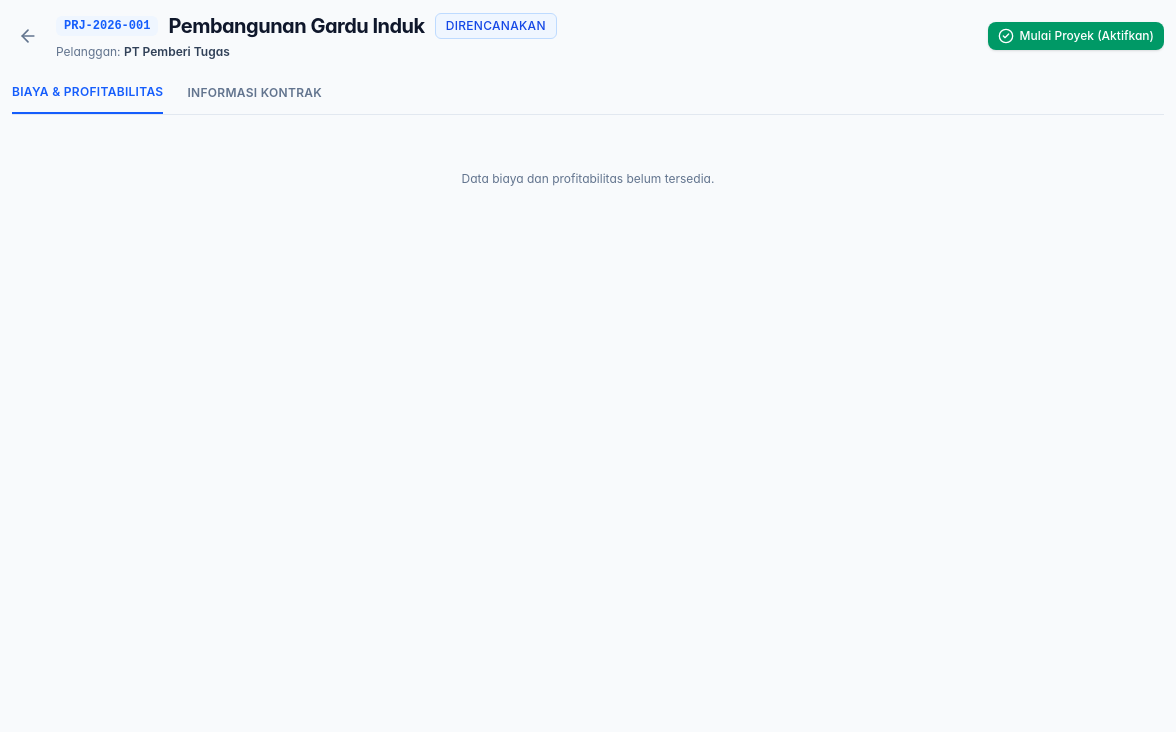
Project Activation Workflow (PRJ-2026-001) › renders PLANNED project with "Mulai Proyek (Aktifkan)" button and activates successfully
Expected: the text "PRJ-2026-001" is shown, [56,16,158,36]
Expected: the heading "Pembangunan Gardu Induk" is shown, [168,12,425,40]
# Click activate button
Click the button "Mulai Proyek (Aktifkan)".
click(1076, 36)  # box [988,22,1164,50]
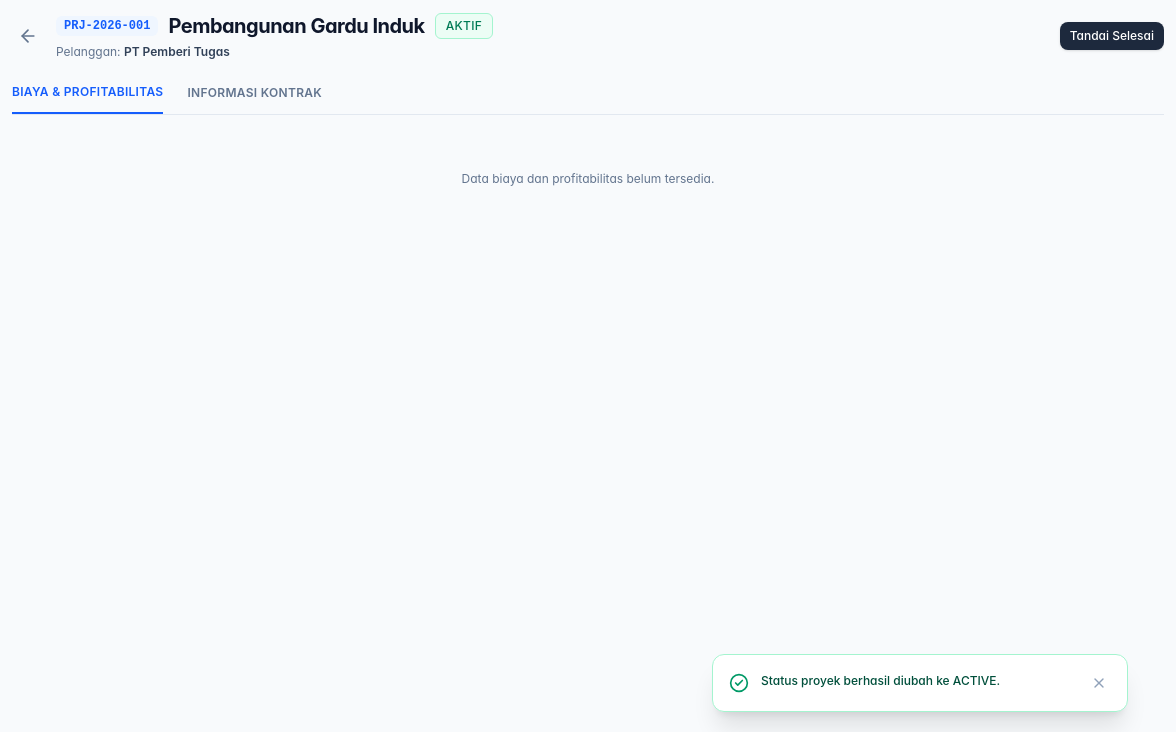
Expected: the text "Aktif" is shown, [435,13,493,39]
Expected: the button "Mulai Proyek (Aktifkan)" is gone
Expected: the button "Tandai Selesai" is shown, [1060,22,1164,50]
